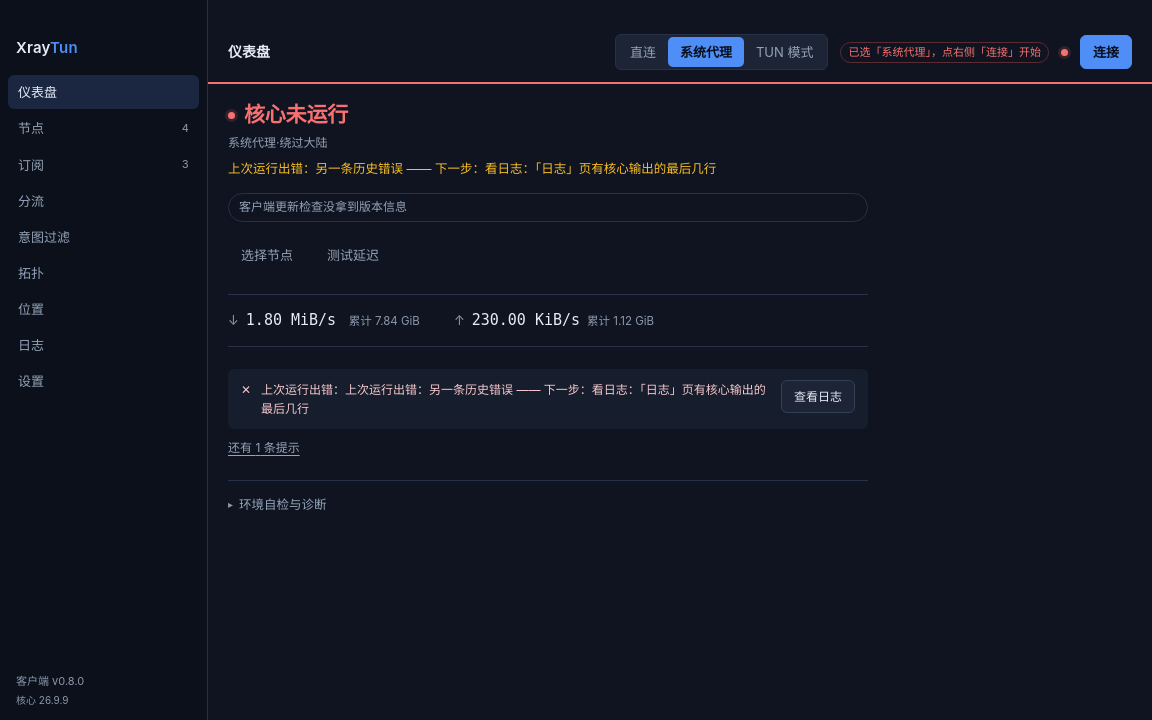
Test: D1：命令失败就是 `runtime.last_error` 时，两处只留一处 › 反例：命令错误与 `last_error` 不是同一句 ⇒ 两条都要留着（不许一律吞掉）
What coordinates should you click on to do the following:
click the button "连接"
I would click on:
 (1106, 52)
Its box is [1080, 35, 1132, 69].
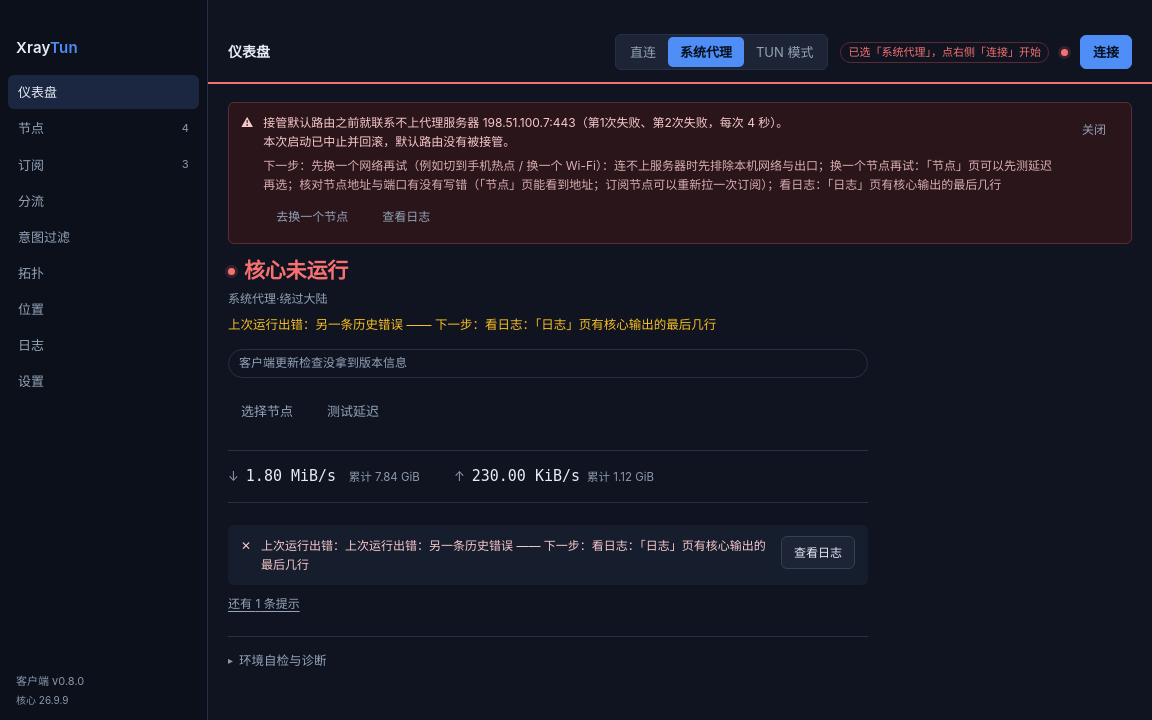
Now the 1st text with class "banner__reason" is shown, box [263, 115, 788, 149]
Now the number of elements with class "banner__reason" is 2, box [263, 115, 788, 149]; [261, 538, 766, 572]
